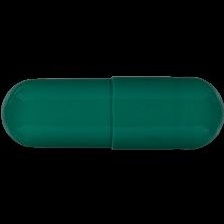66336-669: (0, 0, 224, 224)
